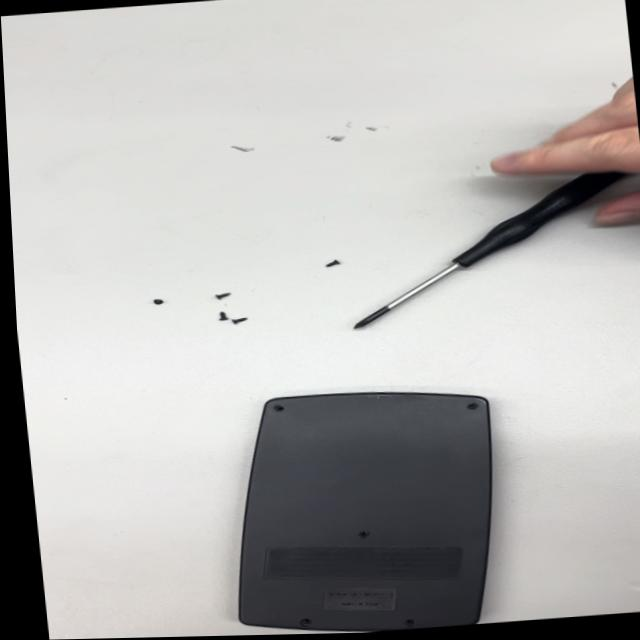back_cover: (211, 371, 509, 636)
screw: (322, 245, 348, 274), (212, 291, 233, 302), (231, 315, 254, 325), (217, 309, 230, 323), (150, 298, 163, 307)
screw_driver: (332, 169, 635, 334)
